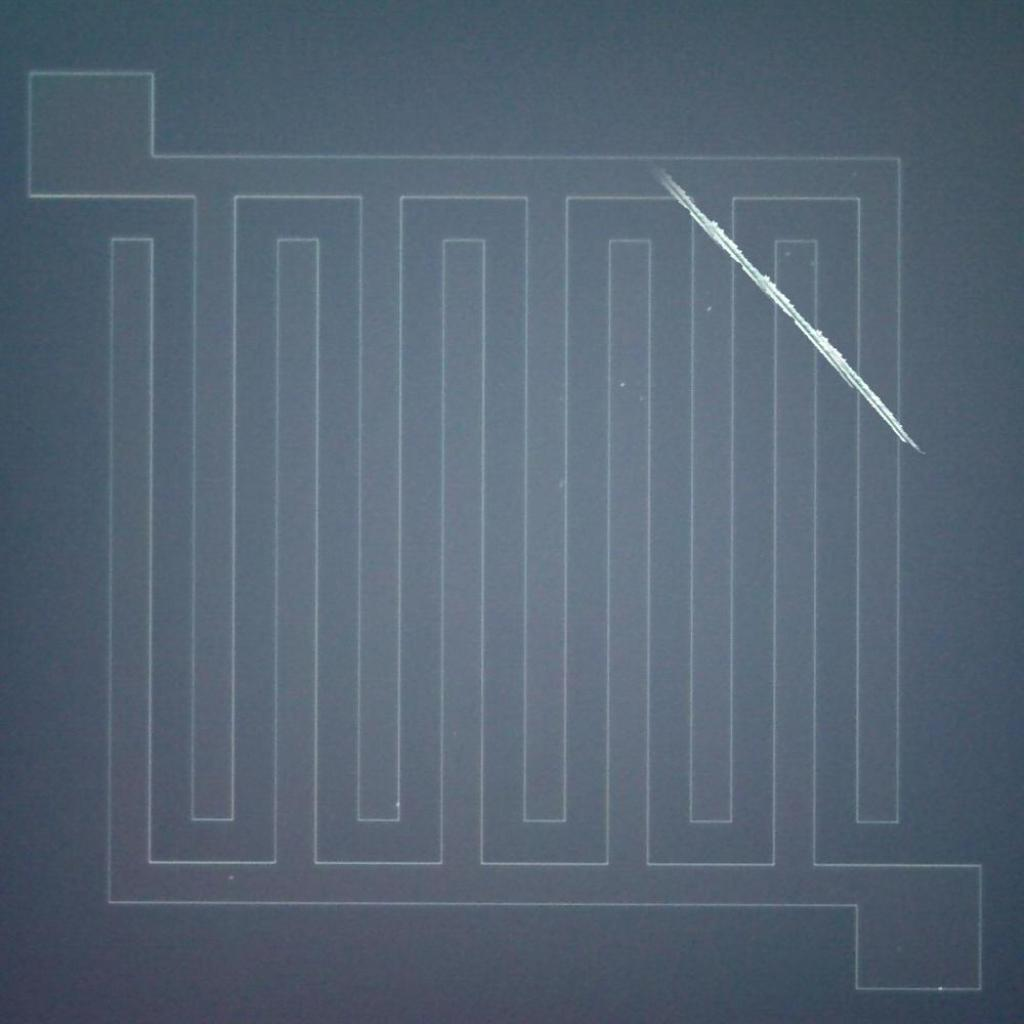scratch: (639, 161, 937, 467)
